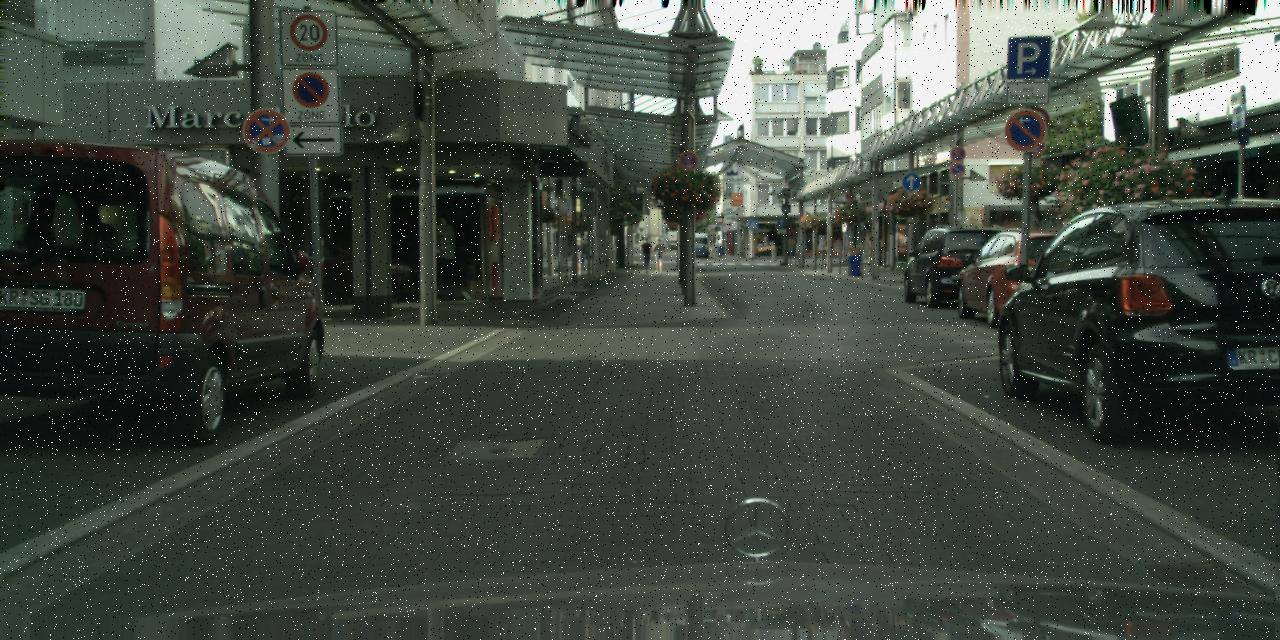ped: (651, 237, 666, 273), (639, 236, 653, 272)
